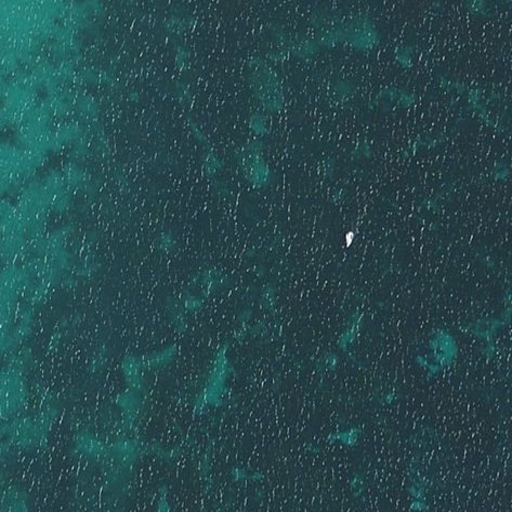ship: (343, 228, 356, 249)
